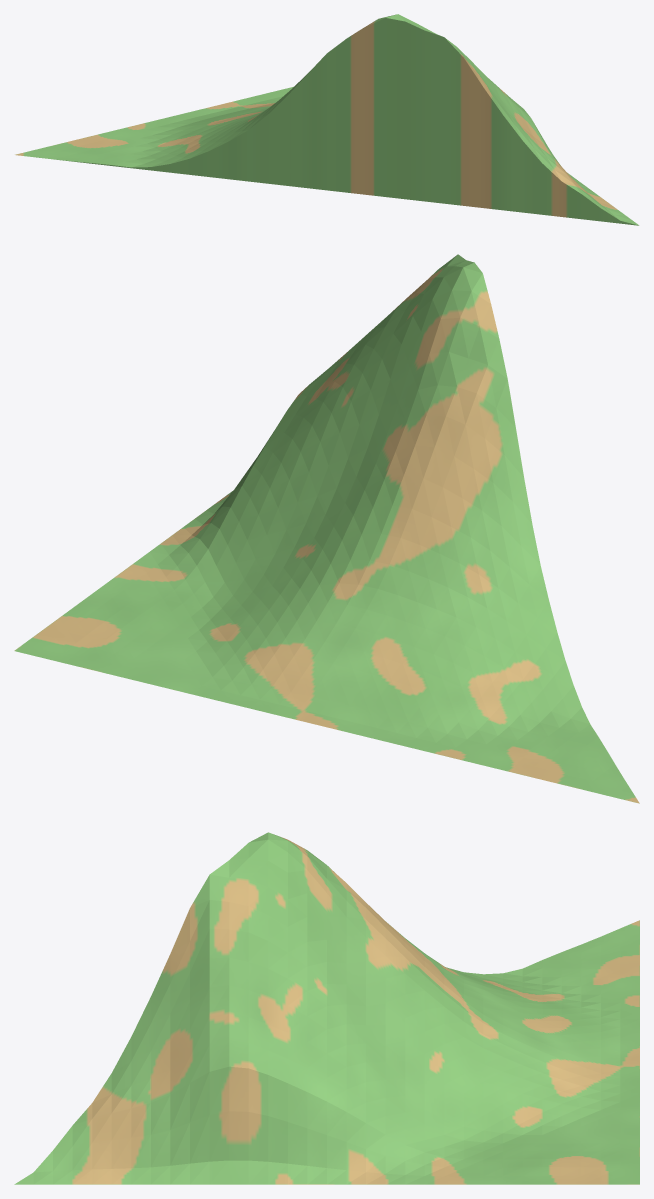
Rendered from Grass_Hills_06_SE.obj.
3 views of the same model, one above another, from view 1: azimuth 30°, elevation 25°; view 2: azimuth 150°, elevation 25°; view 3: azimuth 270°, elevation 25° (orthographic). The views are drawn at different scales.
Size of the model in its own units: 10 by 4.33 by 10.
Materials: 1 (1 with a texture image).
